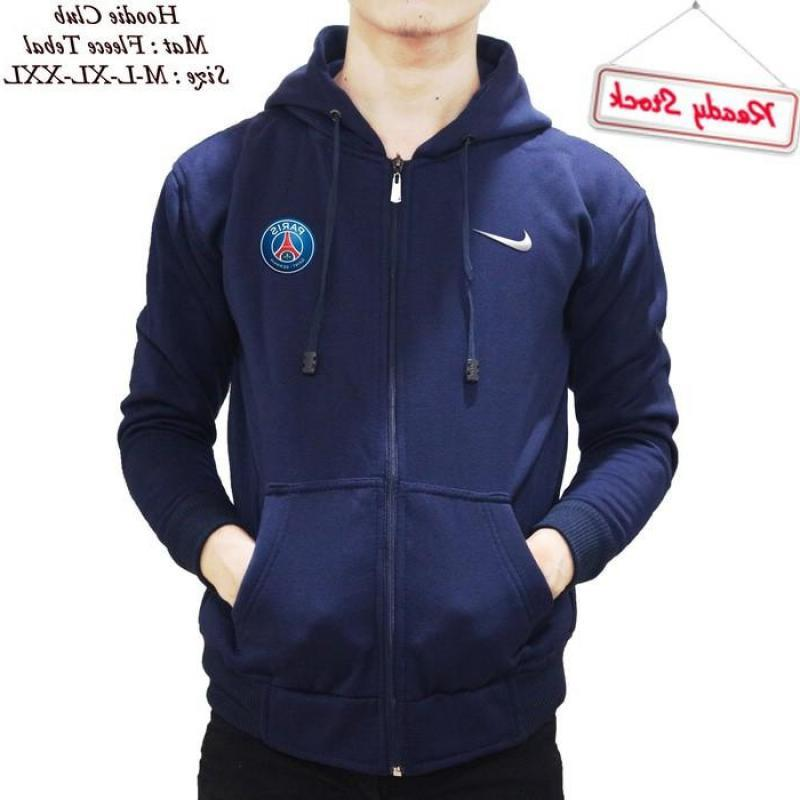sweater: (114, 33, 683, 777)
trousers: (193, 720, 567, 800)
